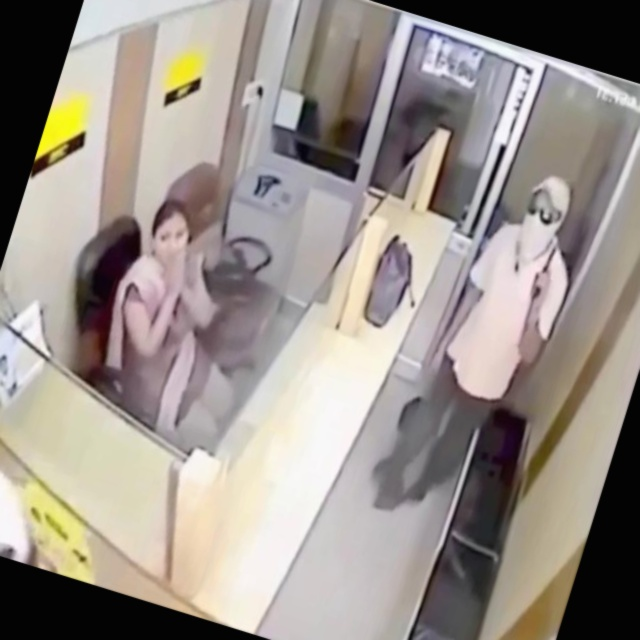gun: (526, 237, 565, 301)
